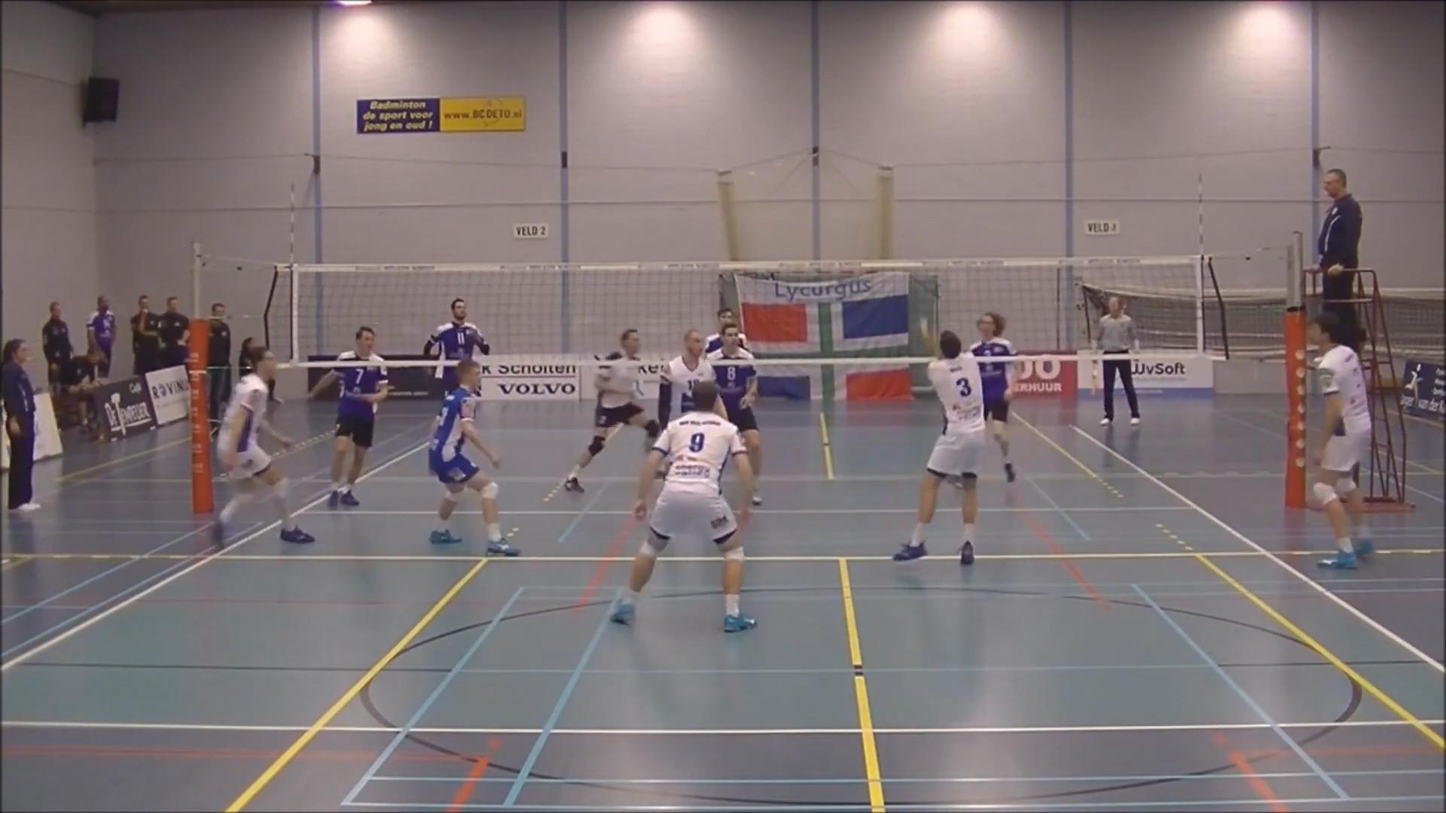difesa: (895, 314, 984, 570)
